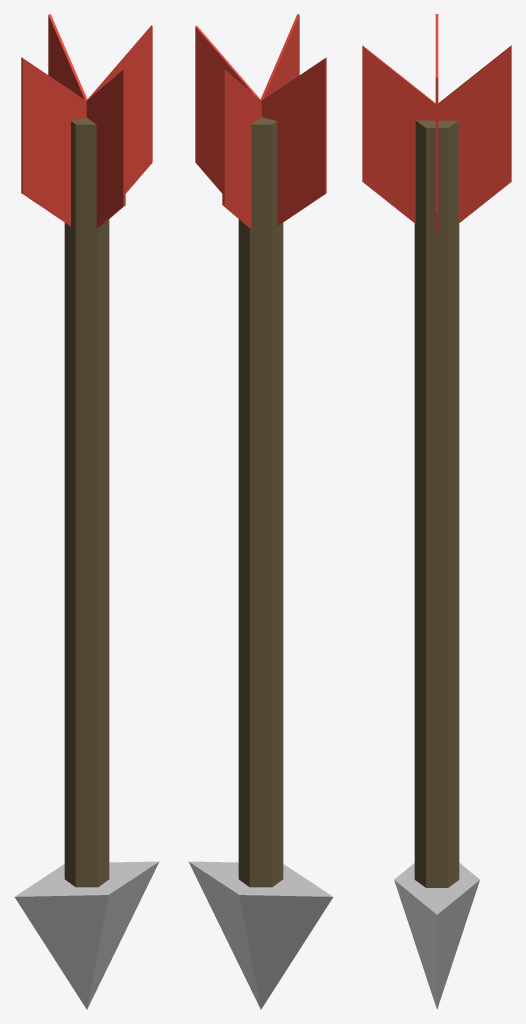
File: Arrow.gltf
3 renders of one model, left to right at view 1: azimuth 30°, elevation 25°; view 2: azimuth 150°, elevation 25°; view 3: azimuth 270°, elevation 25°, orthographic.
Visible parts, largest first — view 1: Arrow; view 2: Arrow; view 3: Arrow.
Boxes of the visible parts, left/top/right/bottom form: Arrow: left=15, top=14, right=159, bottom=1009; Arrow: left=189, top=14, right=332, bottom=1009; Arrow: left=362, top=14, right=511, bottom=1009.
Size of the model in its own units: 0.1227 by 0.7826 by 0.11.
